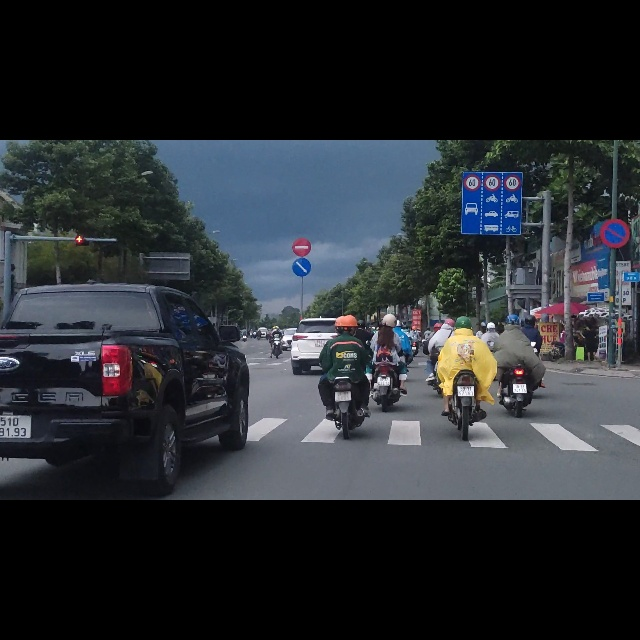bien_cam: (462, 56, 523, 169), (600, 139, 630, 192), (292, 208, 312, 244), (292, 173, 312, 207)
